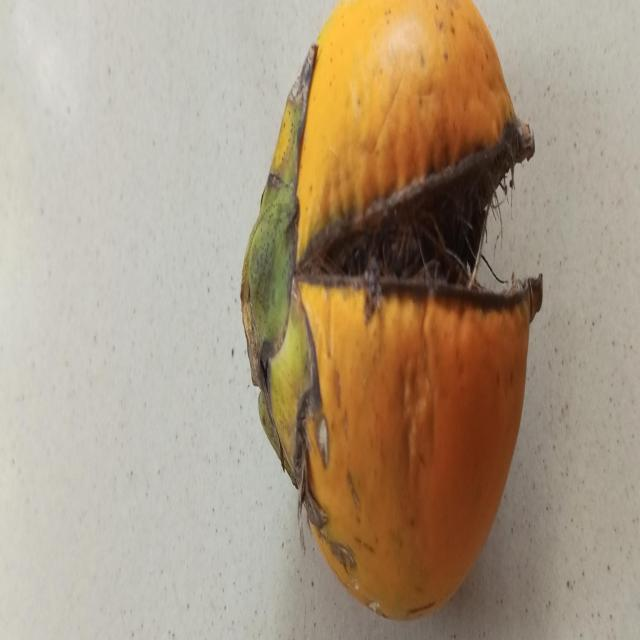damaged: (248, 0, 543, 623)
